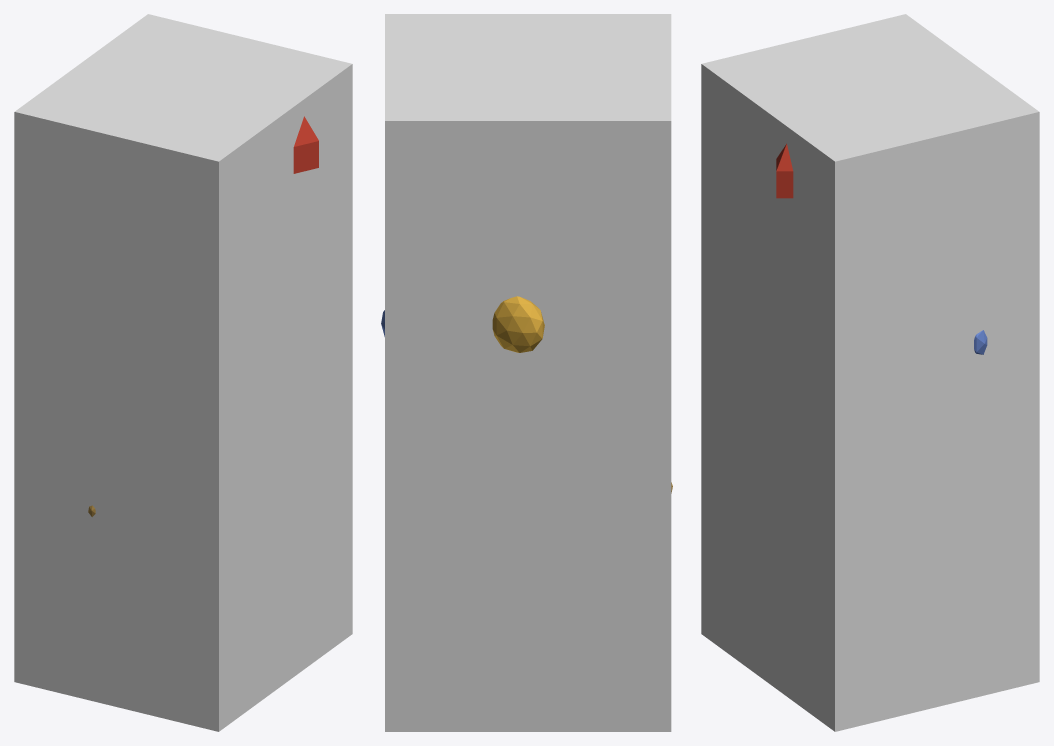
File: npc_trophy_merchant.fbx
The picture shows the model from 3 angles, left to right: view 1: azimuth 30°, elevation 25°; view 2: azimuth 150°, elevation 25°; view 3: azimuth 270°, elevation 25°; orthographic projection. The views are drawn at different scales.
Parts seen in each view (by area): view 1: Root__0.05_3.00_0.23__2.55_6.00_2.25, Head__Torso__0.00_4.17_0.00; view 2: Root__0.05_3.00_0.23__2.55_6.00_2.25, Torso__Root__0.00_2.49_0.00; view 3: Root__0.05_3.00_0.23__2.55_6.00_2.25, Head__Torso__0.00_4.17_0.00.
Boxes of the visible parts, x1=… form: Root__0.05_3.00_0.23__2.55_6.00_2.25: x1=14, y1=14, x2=352, y2=731; Head__Torso__0.00_4.17_0.00: x1=293, y1=116, x2=318, y2=173; Root__0.05_3.00_0.23__2.55_6.00_2.25: x1=385, y1=14, x2=671, y2=731; Torso__Root__0.00_2.49_0.00: x1=381, y1=296, x2=544, y2=352; Root__0.05_3.00_0.23__2.55_6.00_2.25: x1=701, y1=14, x2=1039, y2=731; Head__Torso__0.00_4.17_0.00: x1=776, y1=143, x2=793, y2=198.
Size of the model in its own units: 93.31 by 169 by 90.25.
1 material, 1 textured.
